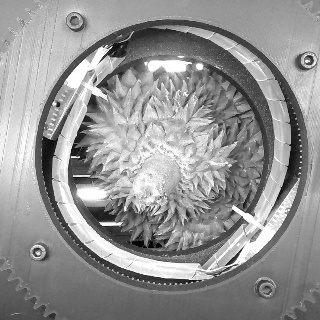base: (138, 146, 189, 181)
end: (131, 170, 162, 204)
